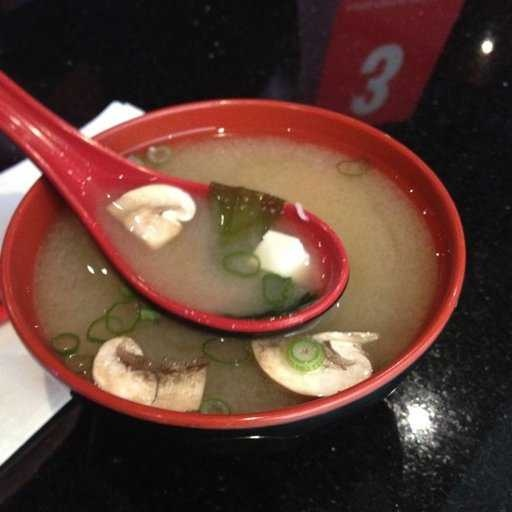soup: (3, 74, 465, 440)
